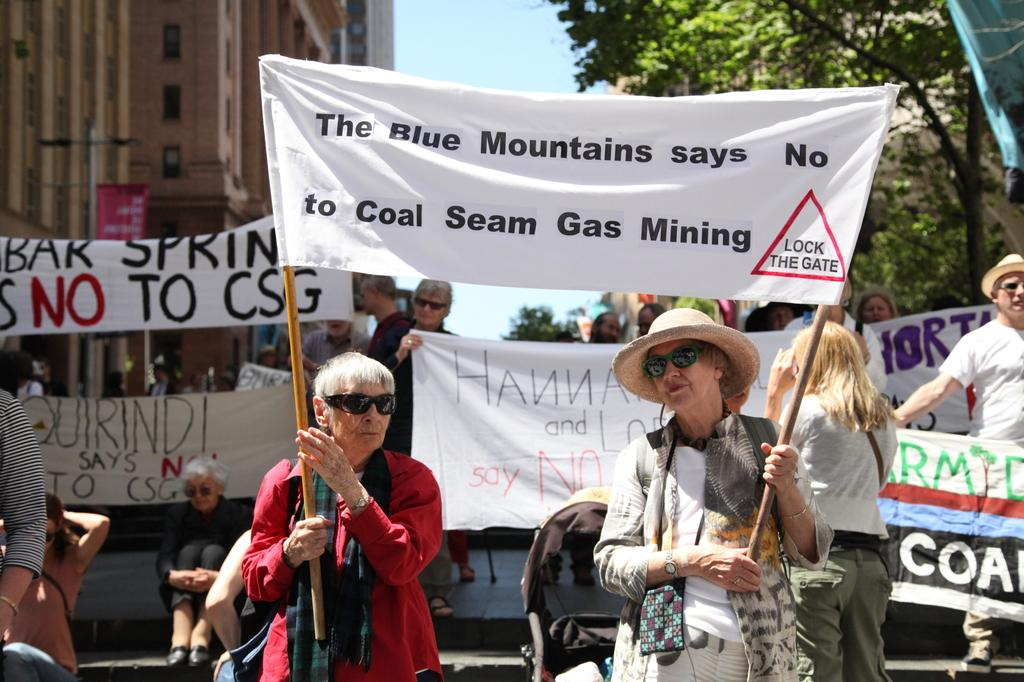Hat: (608, 304, 760, 404), (981, 250, 1023, 300)
